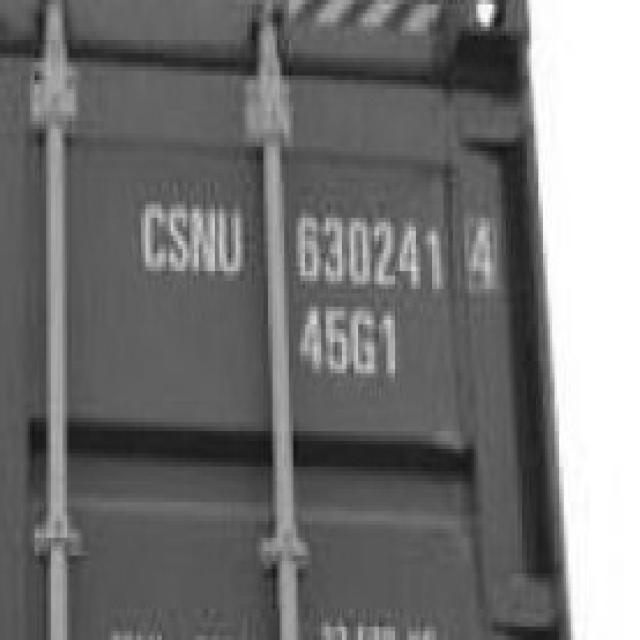dv: (458, 214, 504, 294)
owner: (132, 189, 248, 292)
serial: (288, 192, 451, 290)
size: (293, 297, 404, 390)
